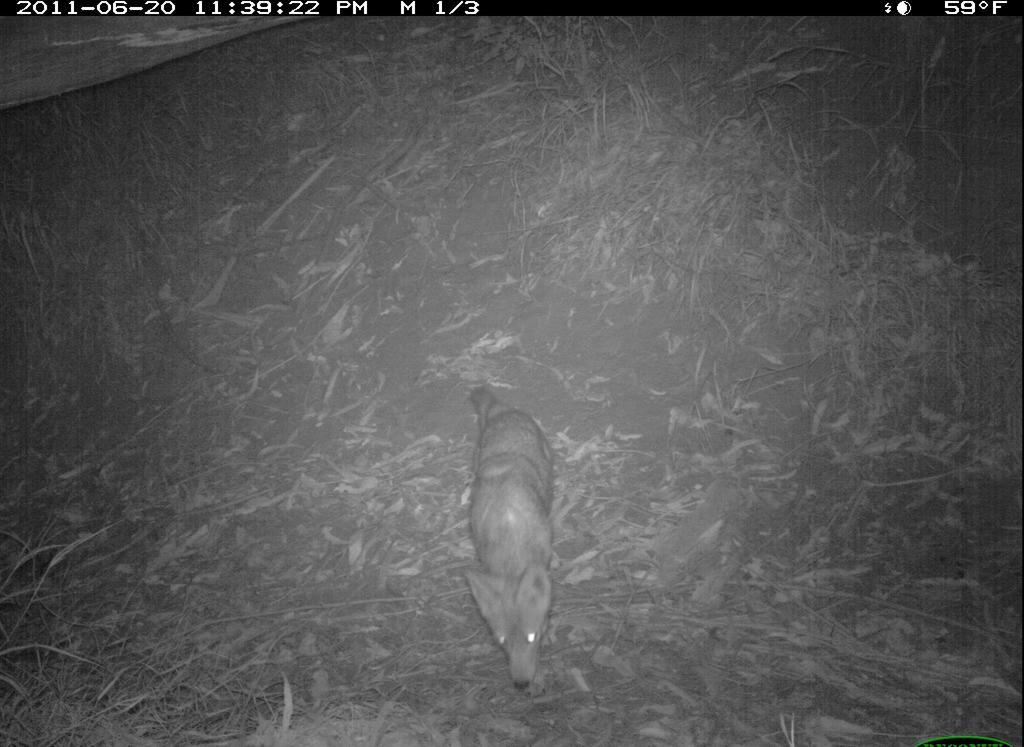coyote: (450, 365, 571, 694)
